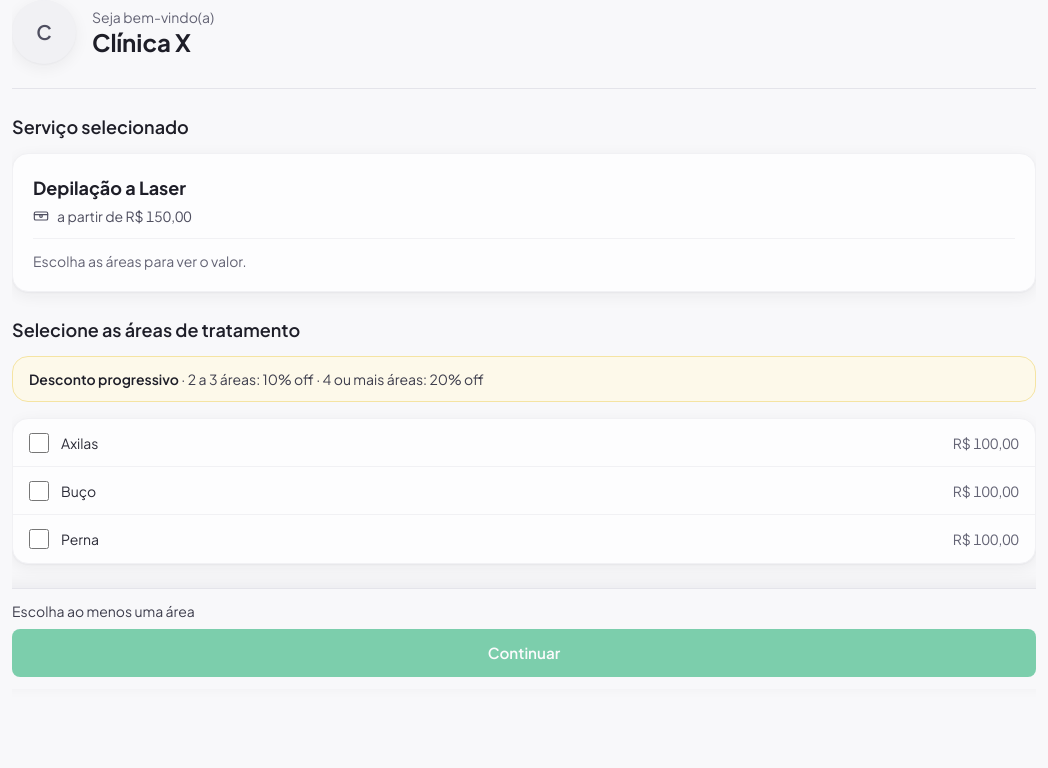
Booking - desconto progressivo › anuncia as faixas antes da escolha e diz quanto falta para a próxima
Expected: the text "2 a 3 áreas: 10% off · 4 ou mais áreas: 20% off" is shown, [188, 370, 484, 388]
Expected: the text "Falta" is not shown
Click the checkbox labelled "Axilas R$ 100,00".
click(39, 442)  # box [29, 432, 49, 452]
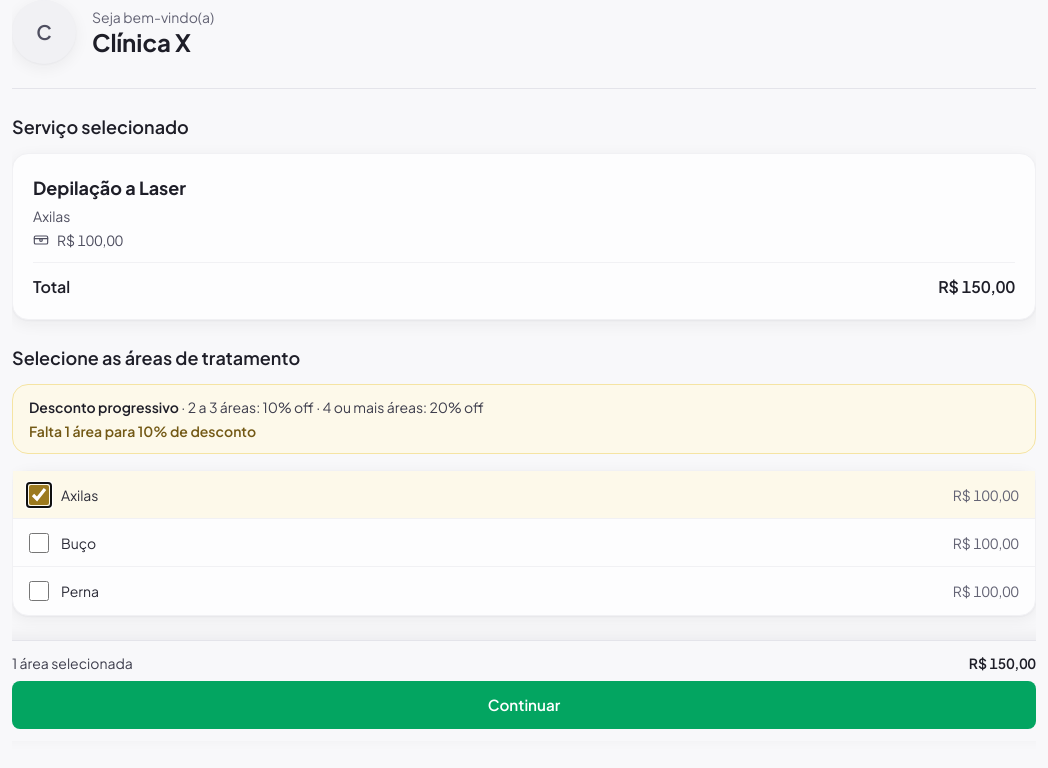
Expected: the text "Falta 1 área para 10% de desconto" is shown, [29, 422, 256, 440]
Click the checkbox labelled "Buço R$ 100,00".
click(39, 542)  # box [29, 532, 49, 552]
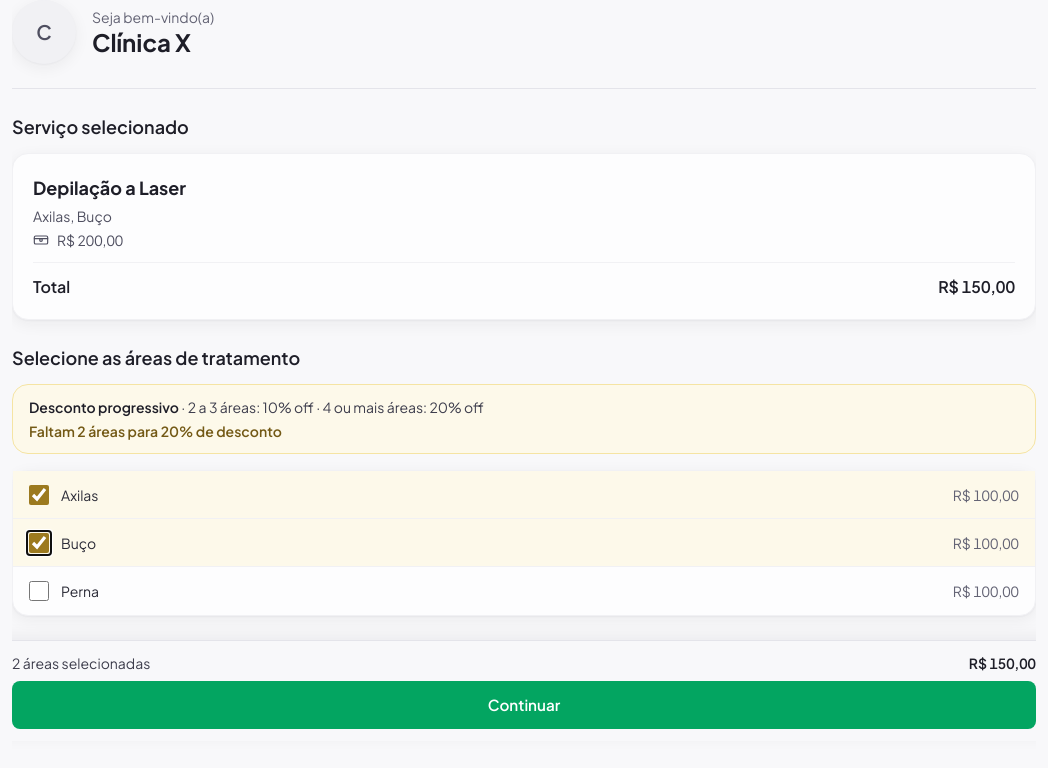
Expected: the text "Faltam 2 áreas para 20% de desconto" is shown, [29, 422, 282, 440]
